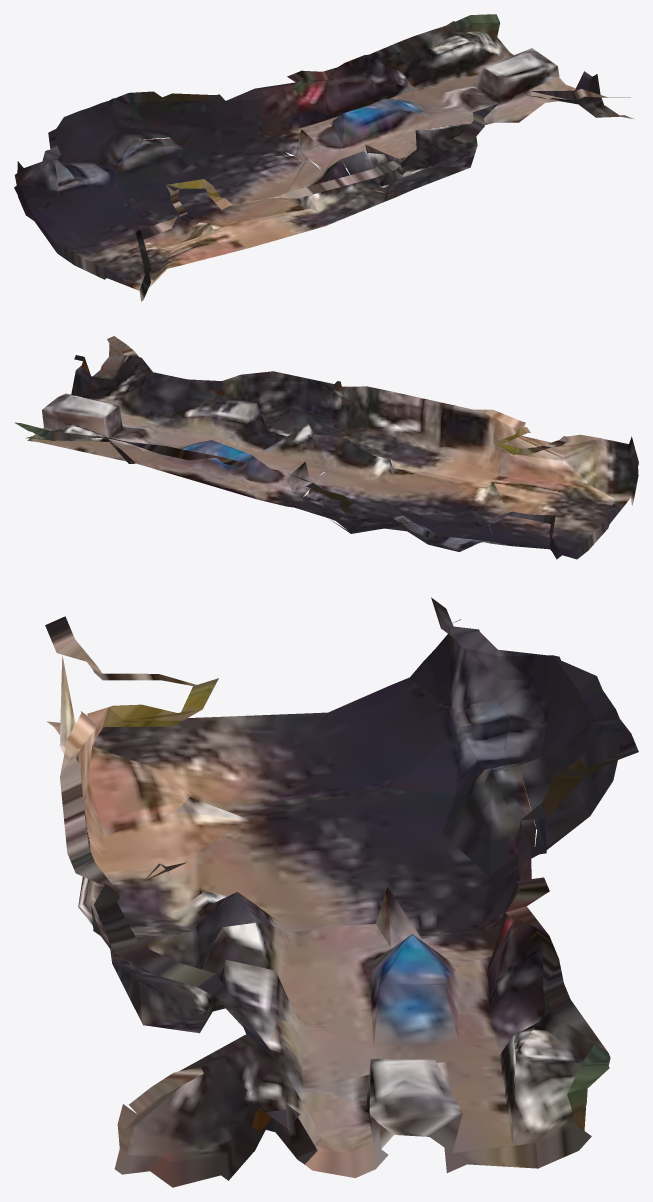
The picture shows the model from 3 angles, top to bottom: view 1: azimuth 30°, elevation 25°; view 2: azimuth 150°, elevation 25°; view 3: azimuth 270°, elevation 25°; orthographic projection. The views are drawn at different scales.
Parts seen in each view (by area): view 1: Mesh_0; view 2: Mesh_0; view 3: Mesh_0.
Boxes of the visible parts, left/top/right/bottom form: Mesh_0: left=14, top=14, right=634, bottom=301; Mesh_0: left=14, top=336, right=638, bottom=559; Mesh_0: left=45, top=597, right=638, bottom=1187.
Size of the model in its own units: 30.42 by 4 by 15.67.
Materials: 1 (1 with a texture image).
